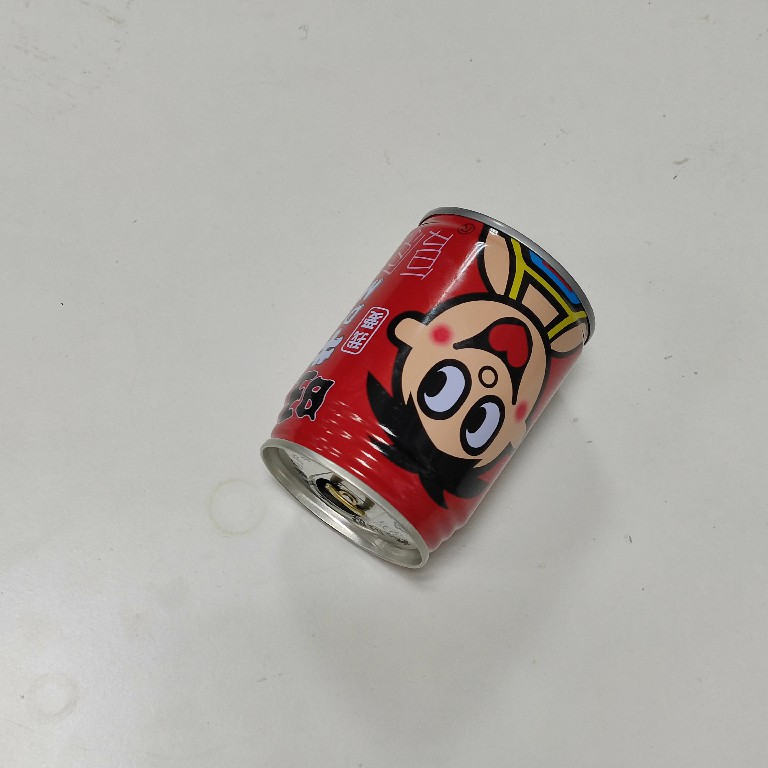can: (249, 193, 603, 582)
